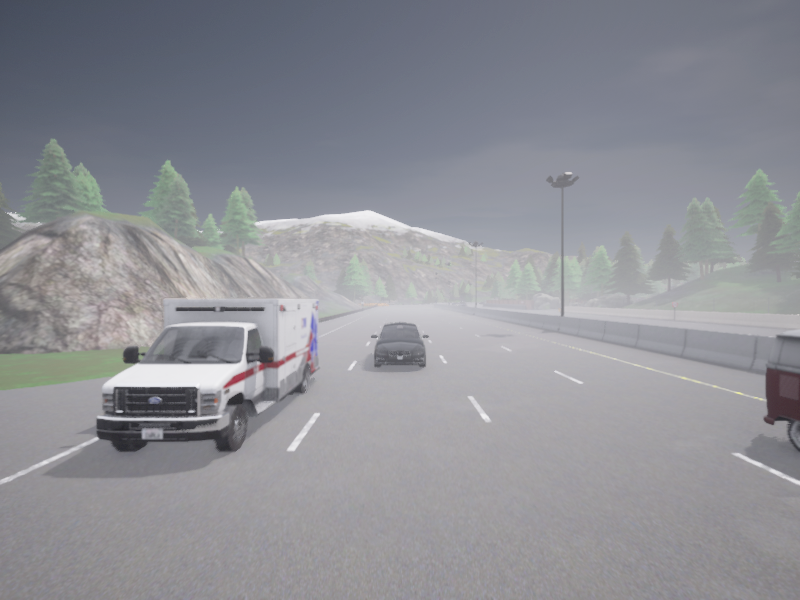vehicle: (96, 299, 319, 450), (763, 330, 799, 451), (371, 322, 428, 367), (458, 303, 464, 305), (453, 302, 458, 304), (464, 302, 467, 305), (480, 302, 484, 304), (461, 301, 465, 302)
